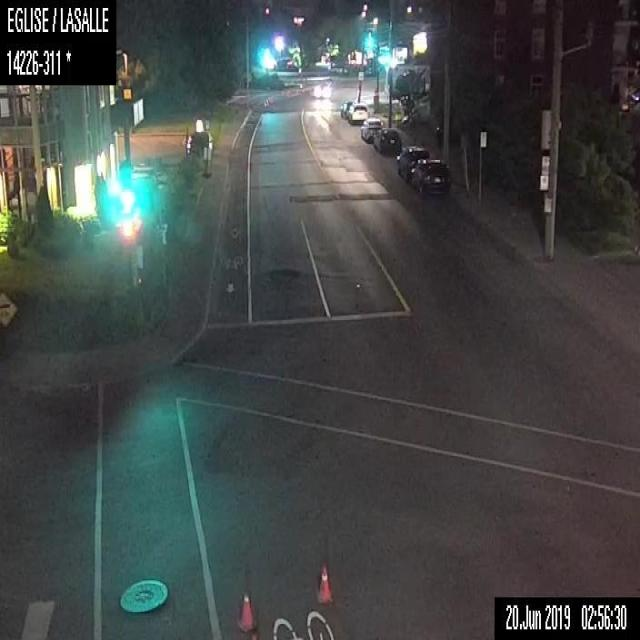construction: (237, 589, 254, 632), (316, 562, 332, 602)
vehicle: (413, 159, 450, 195), (394, 144, 428, 182), (372, 127, 402, 155), (185, 131, 212, 159), (360, 116, 382, 142), (347, 102, 368, 123), (312, 80, 333, 99), (340, 99, 353, 117)
